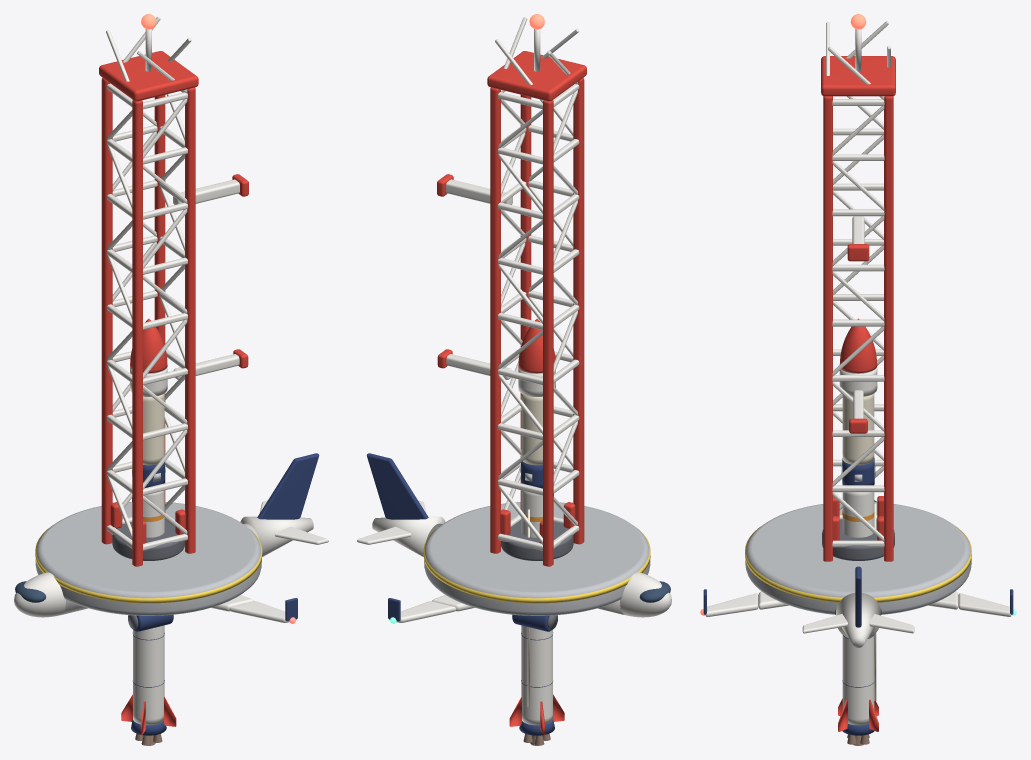
The model's file is minyatur.glb.
3 views of the same model, side by side, from view 1: azimuth 30°, elevation 25°; view 2: azimuth 150°, elevation 25°; view 3: azimuth 270°, elevation 25° (orthographic).
Parts seen in each view (by area): view 1: Kule, Rampa_Taban, Kademe1, Kule_Cati, Ucak_Dikey, Ucak_Burun, Rampa_Serit, Ucak_Kuyruk, Kademe2, Rampa_Kaide, Burun, Kol_Ust_Govde (+4 smaller); view 2: Kule, Rampa_Taban, Kademe1, Kule_Cati, Ucak_Dikey, Ucak_Burun, Rampa_Serit, Rampa_Kaide, Ucak_Kuyruk, Kademe2, Burun, Kol_Ust_Govde (+4 smaller); view 3: Kule, Rampa_Taban, Kademe1, Kule_Cati, Kademe2, Ucak_Kuyruk, Rampa_Serit, Burun, Rampa_Kaide, Ucak_KanatUcu, Ucak_KanatUcuSol, AraKademe (+2 smaller).
Boxes of the visible parts, x1,y1,x2,y2 form: Kule: [101, 16, 195, 566]; Rampa_Taban: [35, 502, 261, 615]; Kademe1: [133, 490, 164, 725]; Kule_Cati: [99, 51, 198, 101]; Ucak_Dikey: [257, 453, 319, 519]; Ucak_Burun: [14, 572, 65, 617]; Rampa_Serit: [35, 525, 262, 603]; Ucak_Kuyruk: [240, 516, 313, 556]; Kademe2: [143, 393, 164, 465]; Rampa_Kaide: [112, 520, 184, 560]; Burun: [130, 318, 167, 372]; Kol_Ust_Govde: [173, 179, 239, 204]; Kule: [490, 17, 584, 566]; Rampa_Taban: [424, 502, 650, 615]; Kademe1: [521, 490, 552, 725]; Kule_Cati: [487, 51, 586, 101]; Ucak_Dikey: [366, 453, 428, 519]; Ucak_Burun: [620, 572, 671, 617]; Rampa_Serit: [423, 525, 650, 603]; Rampa_Kaide: [501, 520, 573, 560]; Ucak_Kuyruk: [372, 516, 445, 556]; Kademe2: [521, 393, 542, 465]; Burun: [518, 318, 555, 372]; Kol_Ust_Govde: [446, 179, 512, 204]; Kule: [823, 21, 893, 561]; Rampa_Taban: [745, 502, 971, 614]; Kademe1: [842, 492, 874, 725]; Kule_Cati: [821, 56, 895, 96]; Kademe2: [842, 393, 874, 465]; Ucak_Kuyruk: [836, 593, 880, 647]; Rampa_Serit: [745, 526, 971, 602]; Burun: [839, 318, 877, 372]; Rampa_Kaide: [822, 519, 894, 560]; Ucak_KanatUcu: [705, 593, 758, 616]; Ucak_KanatUcuSol: [958, 593, 1011, 616]; AraKademe: [842, 458, 874, 485].
Size of the model in its own units: 40.23 by 92.4 by 36.4.
